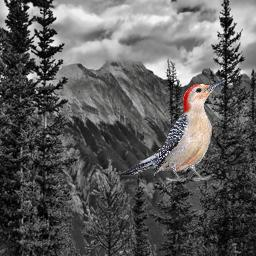Woodpecker: (114, 78, 228, 182)
